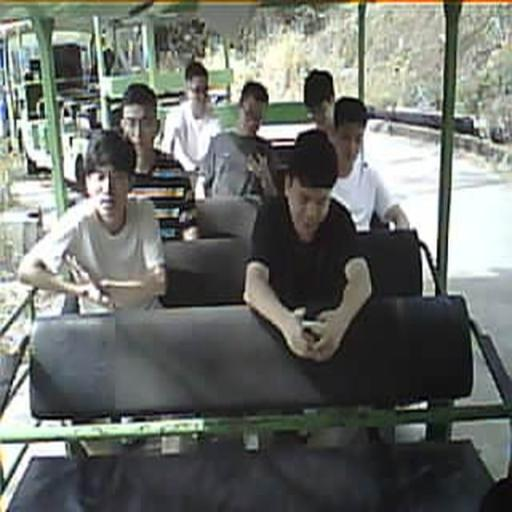persona: (242, 128, 374, 364), (18, 129, 168, 316), (120, 86, 200, 243), (326, 96, 410, 234), (194, 81, 277, 204), (160, 61, 222, 173), (302, 70, 336, 147)
